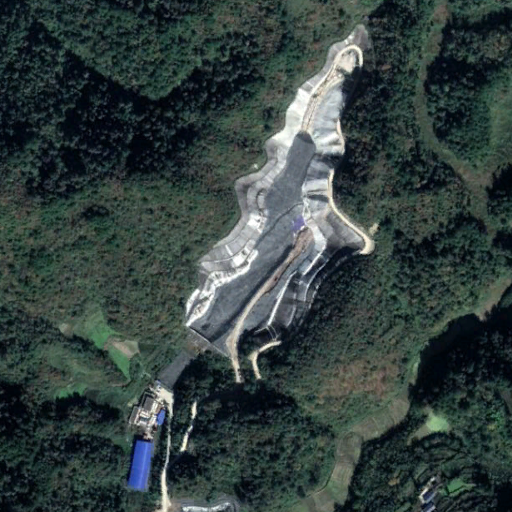lf: (183, 23, 379, 384)
